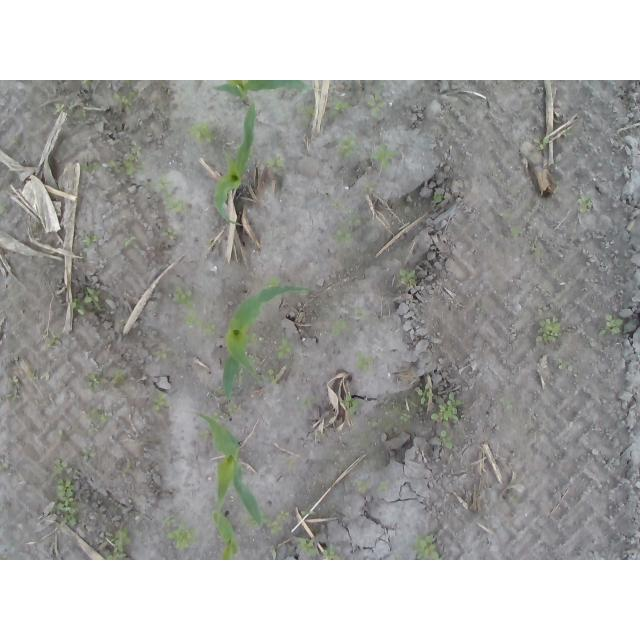Maize: (220, 285, 312, 403), (190, 409, 264, 530), (214, 102, 257, 230), (213, 80, 311, 105), (215, 512, 242, 561)
Weeds: (49, 456, 80, 529), (160, 513, 200, 552), (153, 176, 189, 216), (111, 139, 146, 177), (369, 143, 402, 177), (430, 391, 464, 423), (71, 287, 106, 316), (174, 287, 200, 325), (411, 533, 446, 560), (105, 528, 132, 560), (367, 80, 386, 120), (334, 199, 362, 225), (536, 316, 561, 345), (190, 119, 216, 145), (84, 408, 111, 432), (266, 512, 291, 537), (336, 136, 361, 160), (353, 350, 376, 374), (292, 536, 318, 557), (328, 97, 352, 119), (275, 335, 294, 361), (430, 431, 455, 450), (334, 224, 353, 249), (328, 319, 353, 338), (112, 91, 133, 113), (604, 313, 624, 336), (84, 370, 104, 392), (415, 383, 434, 406), (152, 342, 173, 362), (322, 544, 346, 561), (264, 157, 285, 176), (399, 266, 418, 287), (343, 395, 361, 416), (151, 391, 169, 411), (159, 225, 178, 243), (576, 194, 593, 214), (79, 161, 100, 176), (79, 234, 103, 247), (111, 370, 129, 387), (44, 335, 64, 350), (260, 368, 278, 384), (528, 239, 544, 257), (68, 99, 88, 113), (353, 478, 370, 494), (200, 320, 216, 336), (558, 358, 575, 372), (511, 226, 530, 238), (353, 305, 368, 320), (120, 235, 136, 249), (26, 370, 43, 383), (127, 80, 140, 97), (263, 277, 281, 289), (377, 480, 391, 494), (399, 413, 413, 426), (81, 448, 95, 461), (302, 105, 314, 120), (432, 192, 445, 205), (51, 103, 66, 114), (8, 374, 21, 386), (210, 413, 224, 424), (361, 183, 375, 194), (313, 431, 327, 442), (500, 399, 513, 410), (228, 404, 239, 417), (539, 135, 549, 149), (2, 393, 17, 401), (199, 430, 210, 440), (0, 203, 8, 216), (367, 420, 378, 429), (56, 431, 65, 442), (80, 80, 96, 86), (338, 463, 347, 473), (0, 462, 8, 470), (300, 509, 308, 515)
